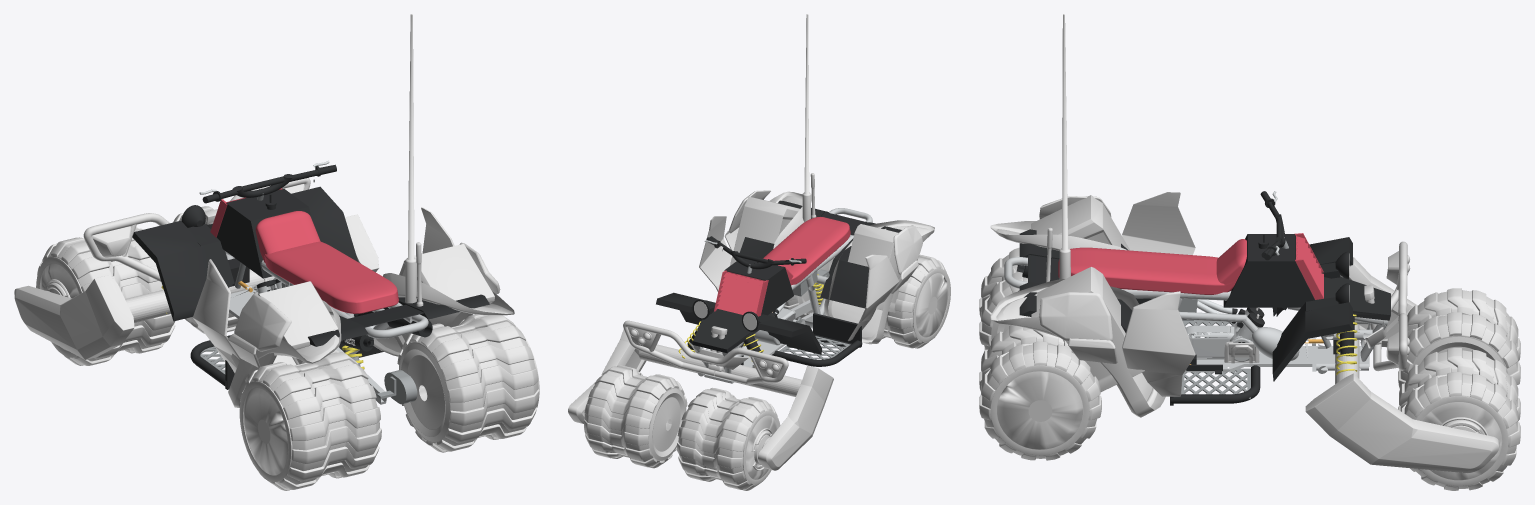
Rendered from Quadrocycle.fbx.
The picture shows the model from 3 angles, left to right: view 1: azimuth 30°, elevation 25°; view 2: azimuth 150°, elevation 25°; view 3: azimuth 270°, elevation 25°; orthographic projection. The views are drawn at different scales.
Parts seen in each view (by area): view 1: Object_12, Plane.004, Plane.015, Plane.008, Object_6.002, Plane.082, Plane.007, Plane.033, Plane.050, Object_2.001, Plane.011, Object_13 (+1 smaller); view 2: Object_12, Plane.016, Plane.033, Plane.008, Plane.082, Object_6.002, Plane.007, Plane.004, Plane.050, Object_2.001, Cylinder.032, Object_13 (+2 smaller); view 3: Object_12, Plane.007, Plane.015, Plane.082, Plane.016, Plane.008, Object_6.002, Plane.033, Object_2.001, Object_2.002, Plane.050, Plane.004 (+4 smaller).
Boxes of the visible parts, left/top/right/bottom form: Object_12: left=132, top=164, right=489, bottom=389; Plane.004: left=239, top=350, right=381, bottom=490; Plane.015: left=397, top=314, right=539, bottom=452; Plane.008: left=228, top=243, right=514, bottom=407; Object_6.002: left=210, top=188, right=398, bottom=313; Plane.082: left=14, top=214, right=378, bottom=359; Plane.007: left=193, top=207, right=500, bottom=373; Plane.033: left=36, top=226, right=175, bottom=365; Plane.050: left=83, top=177, right=310, bottom=281; Object_2.001: left=225, top=252, right=428, bottom=404; Plane.011: left=405, top=14, right=416, bottom=303; Object_13: left=200, top=189, right=417, bottom=404; Object_12: left=656, top=200, right=901, bottom=366; Plane.016: left=584, top=365, right=687, bottom=468; Plane.033: left=677, top=387, right=780, bottom=490; Plane.008: left=730, top=191, right=934, bottom=344; Plane.082: left=568, top=329, right=833, bottom=470; Object_6.002: left=714, top=216, right=850, bottom=316; Plane.007: left=699, top=190, right=922, bottom=341; Plane.004: left=882, top=254, right=950, bottom=348; Plane.050: left=623, top=320, right=788, bottom=384; Object_2.001: left=696, top=208, right=872, bottom=383; Cylinder.032: left=639, top=344, right=802, bottom=396; Object_13: left=736, top=250, right=850, bottom=359; Object_12: left=1017, top=191, right=1390, bottom=405; Plane.007: left=1039, top=192, right=1195, bottom=396; Plane.015: left=979, top=325, right=1101, bottom=460; Plane.082: left=1305, top=257, right=1499, bottom=473; Plane.016: left=1398, top=347, right=1520, bottom=490; Plane.008: left=990, top=195, right=1165, bottom=417; Object_6.002: left=1058, top=233, right=1323, bottom=299; Plane.033: left=1398, top=288, right=1520, bottom=388; Object_2.001: left=1004, top=257, right=1387, bottom=373; Object_2.002: left=1008, top=257, right=1387, bottom=373; Plane.050: left=1364, top=241, right=1410, bottom=371; Plane.004: left=979, top=247, right=1027, bottom=349.
Bounding box in the file's own units: 1471 × 2346 × 2574.
